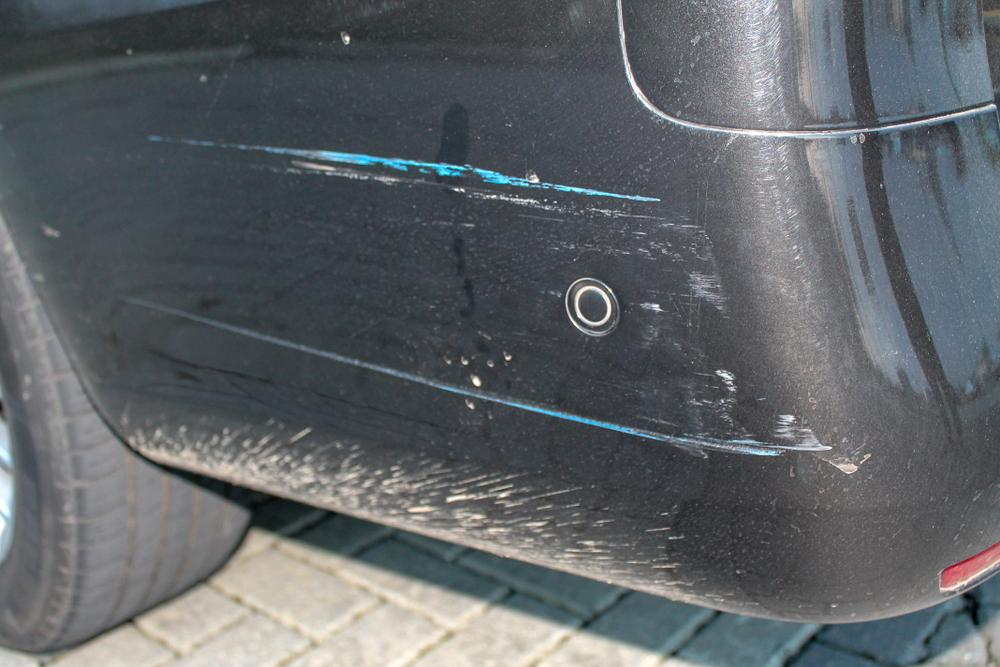scratch: (128, 129, 842, 456)
